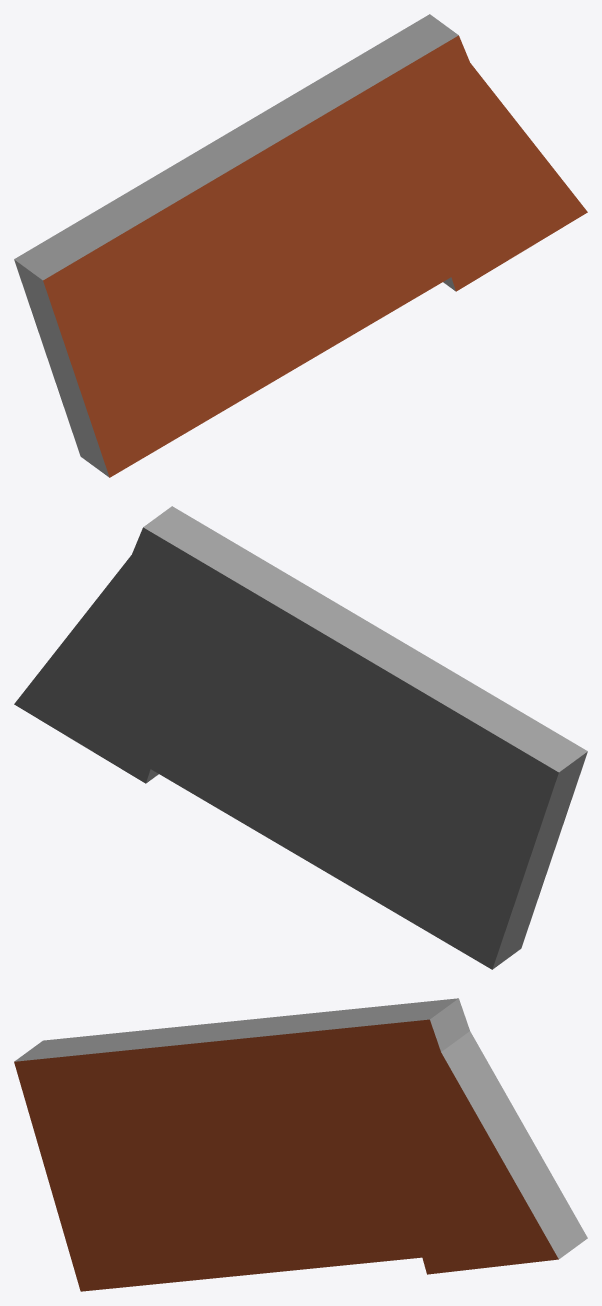
Rendered from construction_0241_assumed_A_Casa_h6m.obj.
The picture shows the model from 3 angles, top to bottom: view 1: azimuth 30°, elevation 25°; view 2: azimuth 150°, elevation 25°; view 3: azimuth 330°, elevation 25°; orthographic projection.
Parts seen in each view (by area): view 1: construction_0241_assumed_A_Casa; view 2: construction_0241_assumed_A_Casa; view 3: construction_0241_assumed_A_Casa.
Part boxes in pixels (<box>): construction_0241_assumed_A_Casa: <box>14,14,587,477</box>; construction_0241_assumed_A_Casa: <box>14,506,587,969</box>; construction_0241_assumed_A_Casa: <box>14,998,587,1291</box>.
Size of the model in its own units: 65.02 by 40.74 by 6.
